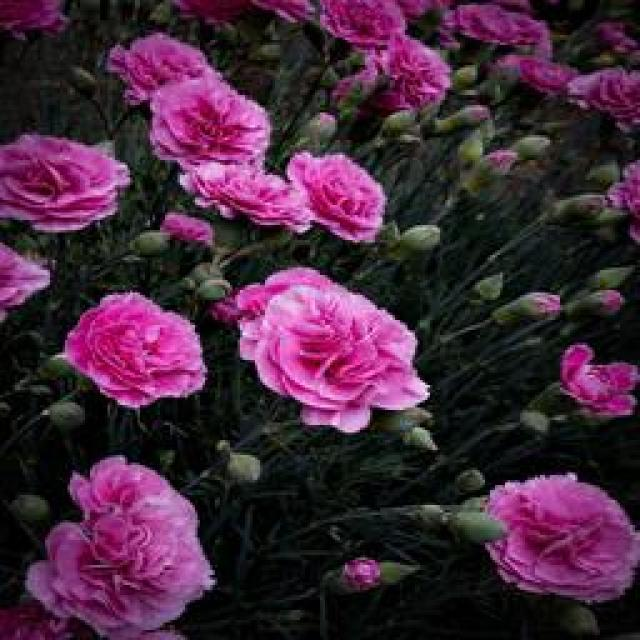carnation: (470, 452, 640, 618)
